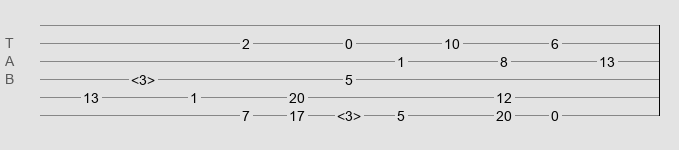0: (345, 36, 353, 46), (551, 108, 559, 118)
1: (190, 90, 198, 100), (397, 54, 405, 64)
10: (444, 36, 460, 46)
12: (496, 90, 512, 100)
13: (83, 90, 99, 100), (599, 54, 615, 64)
17: (289, 108, 305, 118)
2: (242, 36, 250, 46)
20: (289, 90, 305, 100), (496, 108, 512, 118)
5: (345, 72, 353, 82), (397, 108, 405, 118)
6: (551, 36, 559, 46)
7: (242, 108, 250, 118)
8: (500, 54, 508, 64)
harmonic: (131, 72, 155, 82), (337, 108, 361, 118)
